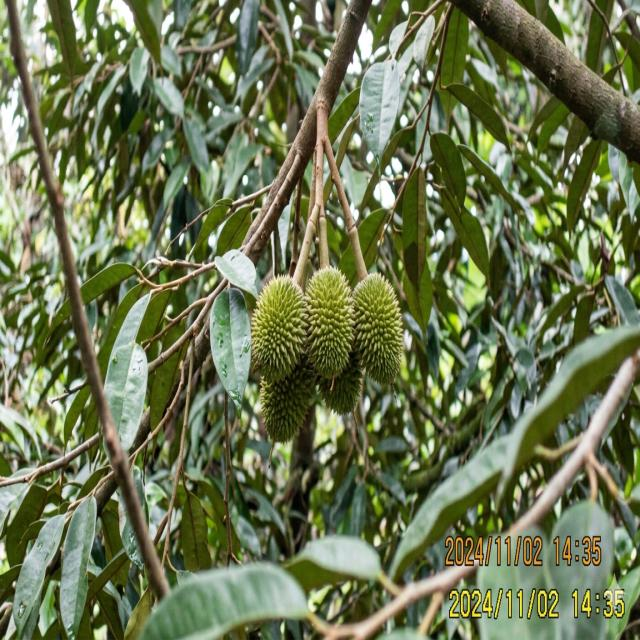immature: (250, 273, 309, 382), (349, 270, 403, 384), (303, 265, 356, 379), (259, 353, 315, 443)
